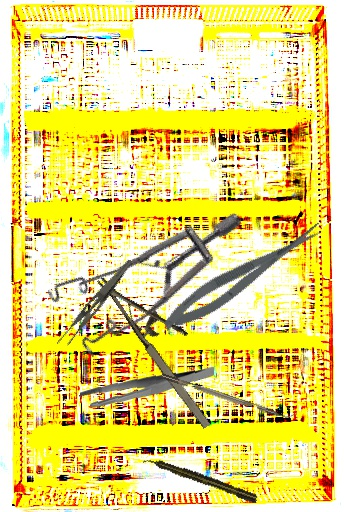Chopper: (160, 366, 298, 424)
Dressing Forceps: (55, 251, 133, 353), (78, 359, 215, 415)
Handpiece: (142, 453, 259, 505)
Micro Scissor: (156, 216, 331, 339)
Needle Holder: (97, 255, 237, 433)
Speculum: (30, 151, 244, 387)
